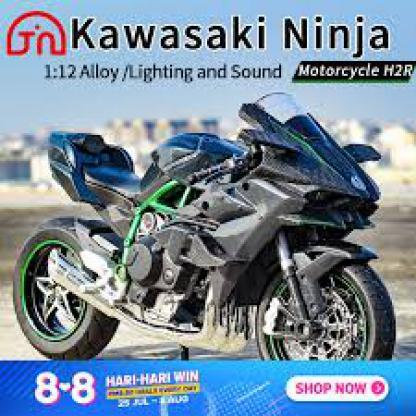Motorcycle: (5, 96, 402, 360)
